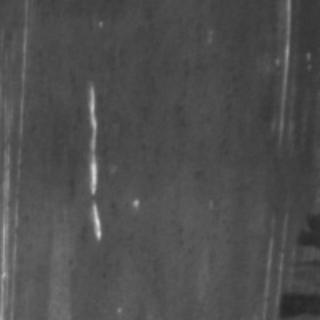inclusion: (277, 286, 317, 318)
scratches: (0, 4, 24, 292), (84, 82, 110, 246), (258, 218, 290, 314), (276, 0, 296, 136)
